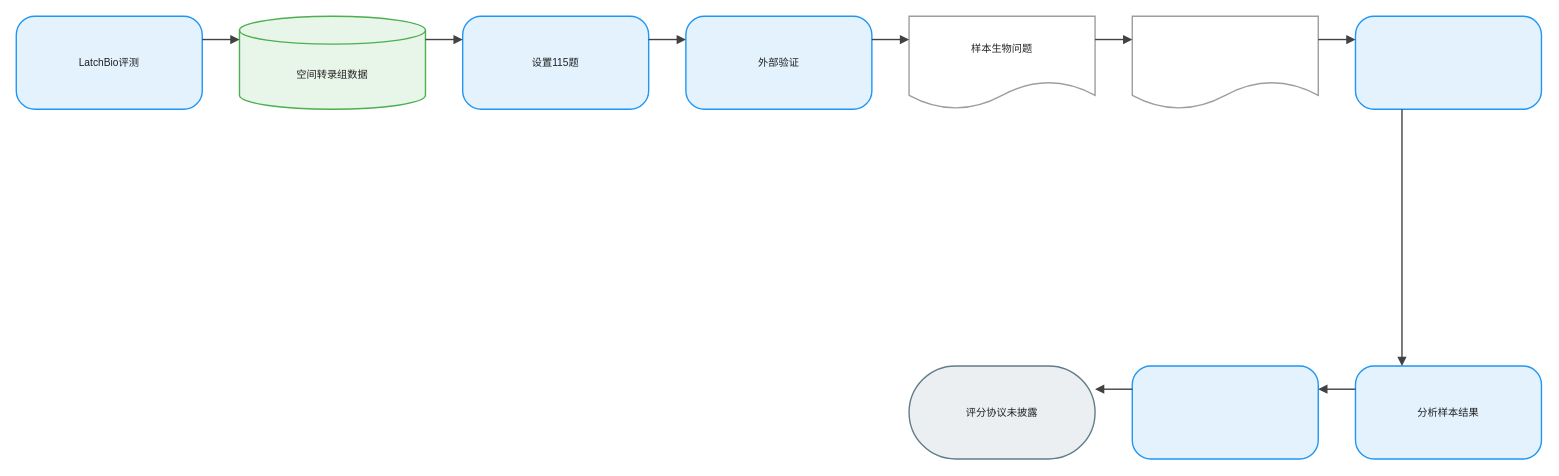
The diagram is 1559 pixels wide and 476 high, and some of its shapes have lost their labels. Here are the shapes that lost their labels. From the top down, the centre of each, then its label:
At (1225,62): "构建细节未披露".
At (1448,62): "运行115题".
At (1225,412): "回答生物问题".
